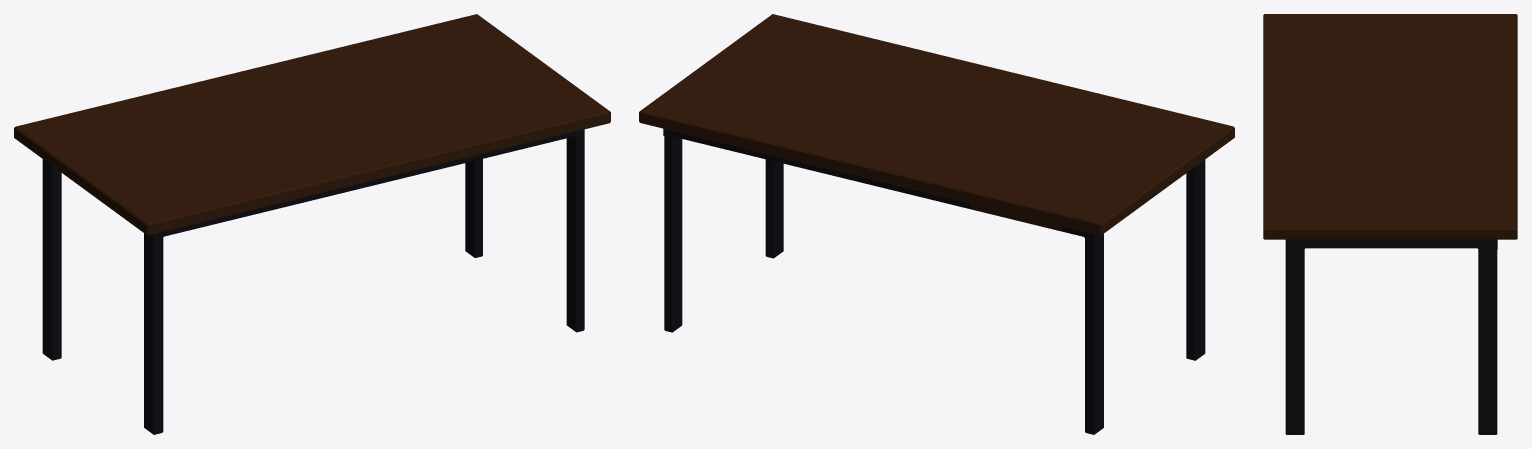
File: Table.FBX
3 views of the same model, side by side, from view 1: azimuth 30°, elevation 25°; view 2: azimuth 150°, elevation 25°; view 3: azimuth 270°, elevation 25° (orthographic). The views are drawn at different scales.
Visible parts, largest first — view 1: 1, 27, 3, 26, 2, 29, 32, 30, 28, 4, 24, 7 (+9 smaller); view 2: 1, 3, 29, 27, 26, 30, 2, 32, 28, 10, 7, 6 (+9 smaller); view 3: 27, 29, 1, 3, 26, 28, 2, 32, 30, 7, 5, 10 (+13 smaller).
Part boxes in pixels (x1,y1,x2,y2): 1: [14, 117, 188, 434]; 27: [485, 72, 610, 332]; 3: [54, 93, 243, 169]; 26: [386, 76, 494, 175]; 2: [181, 130, 255, 230]; 29: [371, 14, 501, 257]; 32: [305, 65, 423, 118]; 30: [322, 40, 466, 89]; 28: [442, 32, 556, 86]; 4: [255, 155, 338, 210]; 24: [370, 133, 424, 185]; 7: [205, 80, 281, 132]; 1: [1059, 117, 1234, 434]; 3: [964, 137, 1106, 231]; 29: [639, 92, 746, 332]; 27: [720, 14, 886, 258]; 26: [784, 42, 957, 92]; 30: [734, 92, 821, 167]; 2: [994, 100, 1193, 140]; 32: [804, 92, 910, 143]; 28: [665, 52, 785, 92]; 10: [843, 139, 930, 195]; 7: [910, 134, 998, 205]; 6: [912, 152, 987, 209]; 27: [1263, 175, 1370, 434]; 29: [1436, 179, 1517, 434]; 1: [1263, 14, 1517, 50]; 3: [1353, 32, 1517, 90]; 26: [1263, 142, 1411, 196]; 28: [1363, 186, 1469, 248]; 2: [1263, 32, 1398, 93]; 32: [1357, 135, 1482, 173]; 30: [1394, 156, 1517, 203]; 7: [1397, 87, 1517, 114]; 5: [1271, 65, 1387, 100]; 10: [1433, 102, 1517, 133].
Bounding box in the file's own units: 1.6 × 0.74 × 0.8.
